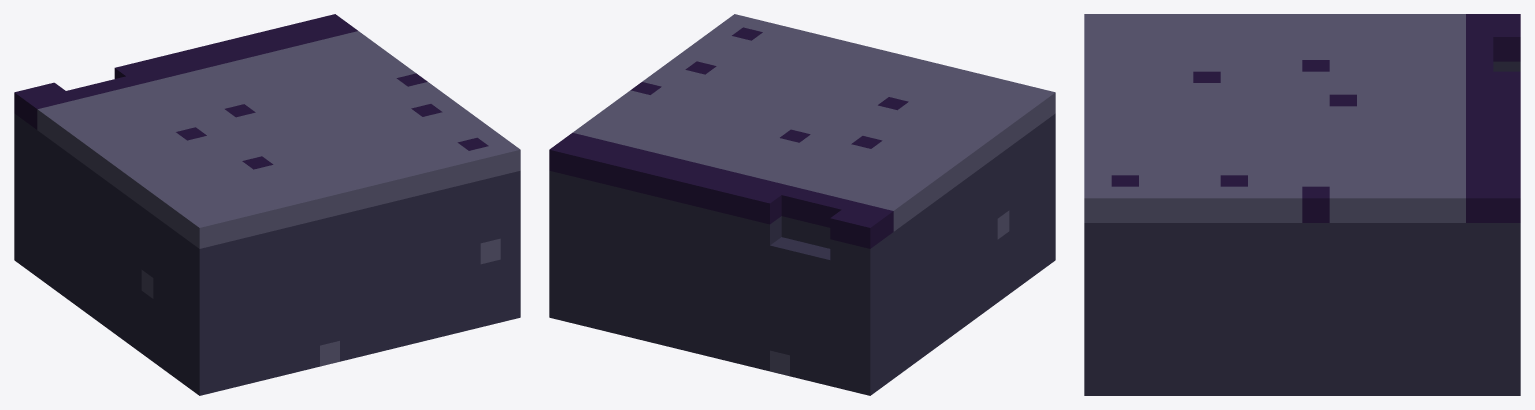
File: ledge_edge.obj
3 views of the same model, side by side, from view 1: azimuth 30°, elevation 25°; view 2: azimuth 150°, elevation 25°; view 3: azimuth 270°, elevation 25° (orthographic). The views are drawn at different scales.
Visible parts, largest first — view 1: ledge_edge; view 2: ledge_edge; view 3: ledge_edge.
Part boxes in pixels (x1=…): ledge_edge: x1=14, y1=14, x2=520, y2=395; ledge_edge: x1=549, y1=14, x2=1055, y2=395; ledge_edge: x1=1084, y1=14, x2=1520, y2=395.
Size of the model in its own units: 1 by 0.5 by 1.
Materials: 1 (1 with a texture image).
